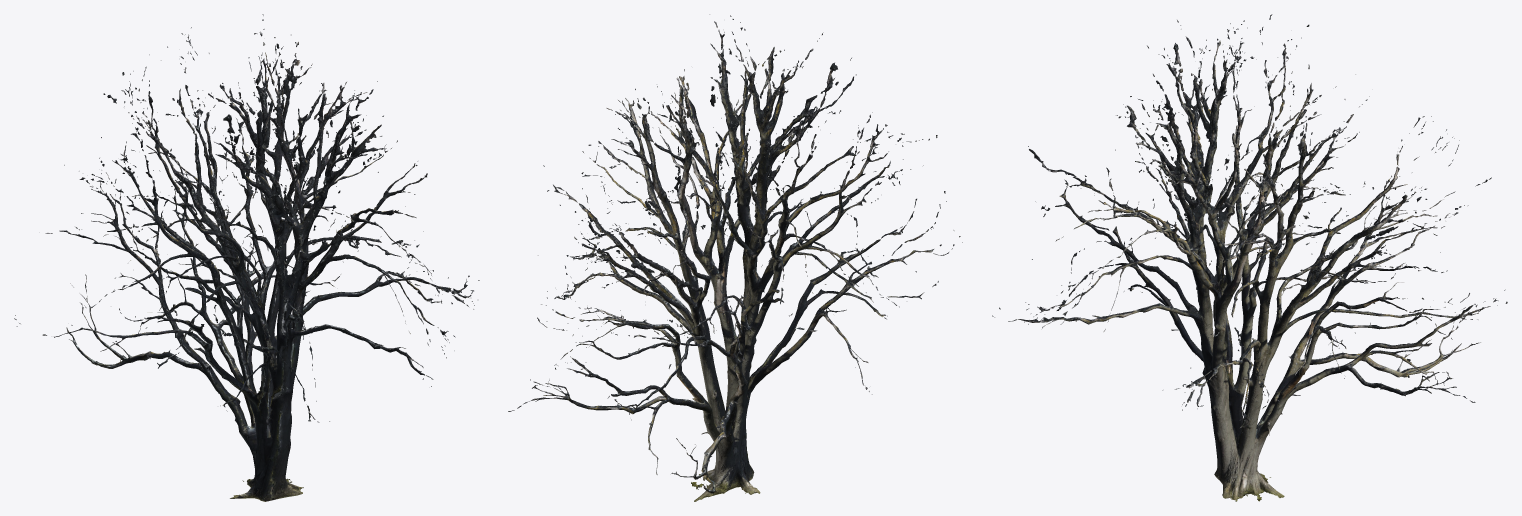
Rendered from tree_snag_tall.glb.
3 renders of one model, left to right at view 1: azimuth 30°, elevation 25°; view 2: azimuth 150°, elevation 25°; view 3: azimuth 270°, elevation 25°, orthographic. The views are drawn at different scales.
Parts seen in each view (by area): view 1: tree_snag_tall; view 2: tree_snag_tall; view 3: tree_snag_tall.
Boxes of the visible parts, box(x1,y1,x2,y2) form: tree_snag_tall: box(14, 14, 479, 501); tree_snag_tall: box(508, 14, 962, 501); tree_snag_tall: box(992, 14, 1507, 501).
Bounding box in the file's own units: 2.59 × 3.1 × 3.09.
Materials: 1 (1 with a texture image).
